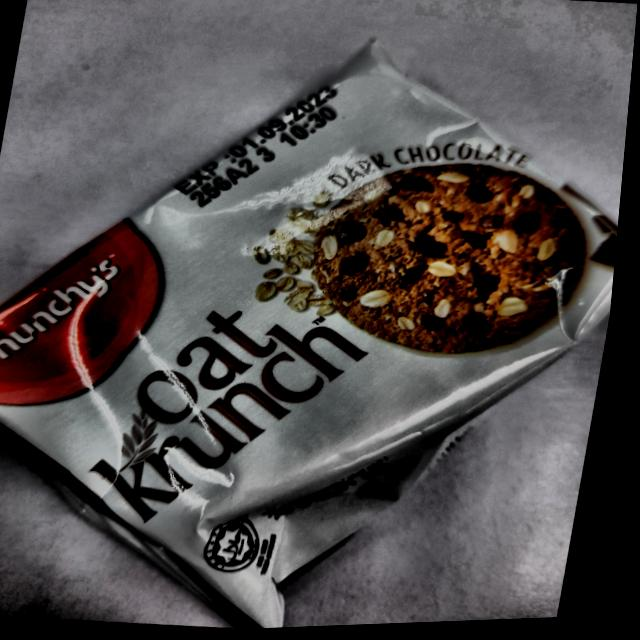Plastic: (0, 10, 638, 640)
